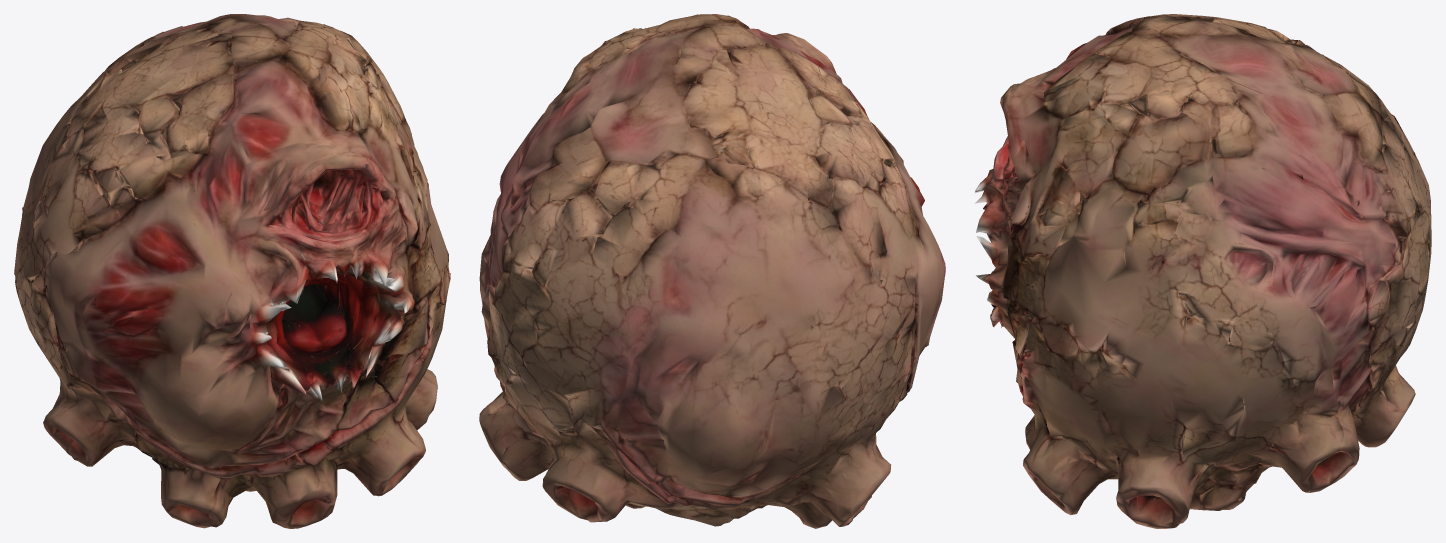
The model's file is monster2.glb.
3 renders of one model, left to right at view 1: azimuth 30°, elevation 25°; view 2: azimuth 150°, elevation 25°; view 3: azimuth 270°, elevation 25°, orthographic. The views are drawn at different scales.
Size of the model in its own units: 1.73 by 2 by 1.76.
1 material, 1 textured.
